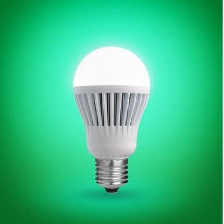light_bulb: (70, 42, 152, 200)
